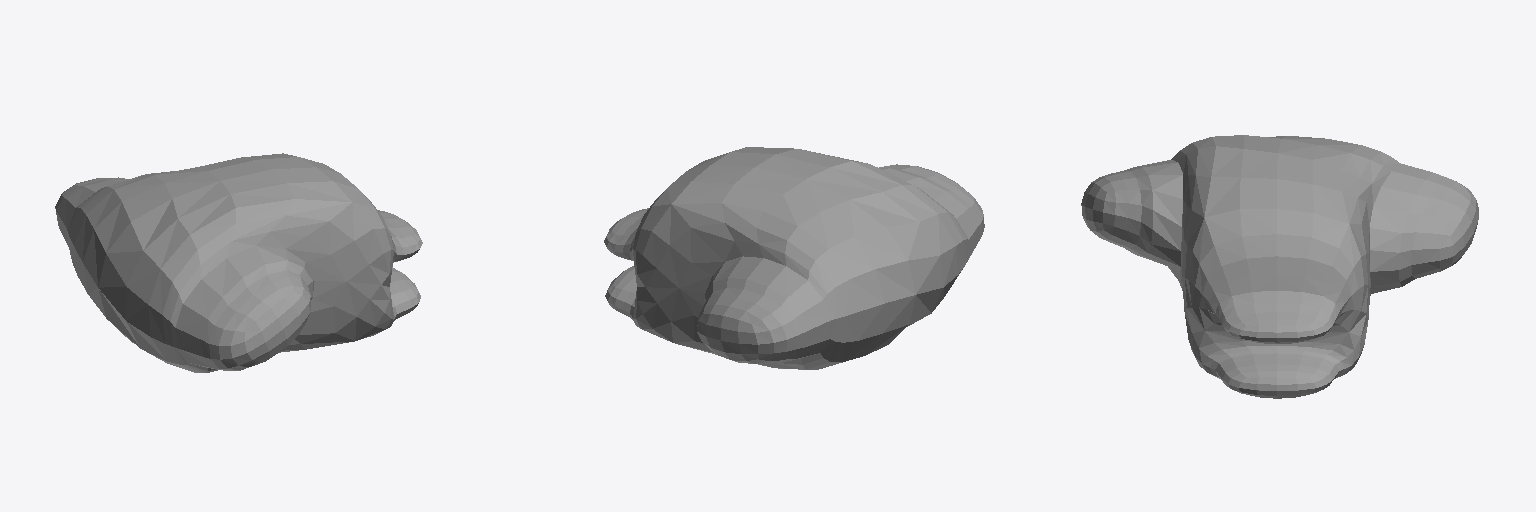
Rendered from bird2.obj.
3 views of the same model, side by side, from view 1: azimuth 30°, elevation 25°; view 2: azimuth 150°, elevation 25°; view 3: azimuth 270°, elevation 25° (orthographic).
Parts seen in each view (by area): view 1: Cube; view 2: Cube; view 3: Cube.
Part boxes in pixels (left/top/right/bottom): Cube: left=55, top=153, right=422, bottom=372; Cube: left=604, top=147, right=984, bottom=369; Cube: left=1081, top=135, right=1478, bottom=398.
Bounding box in the file's own units: 3.54 × 1.9 × 3.99.